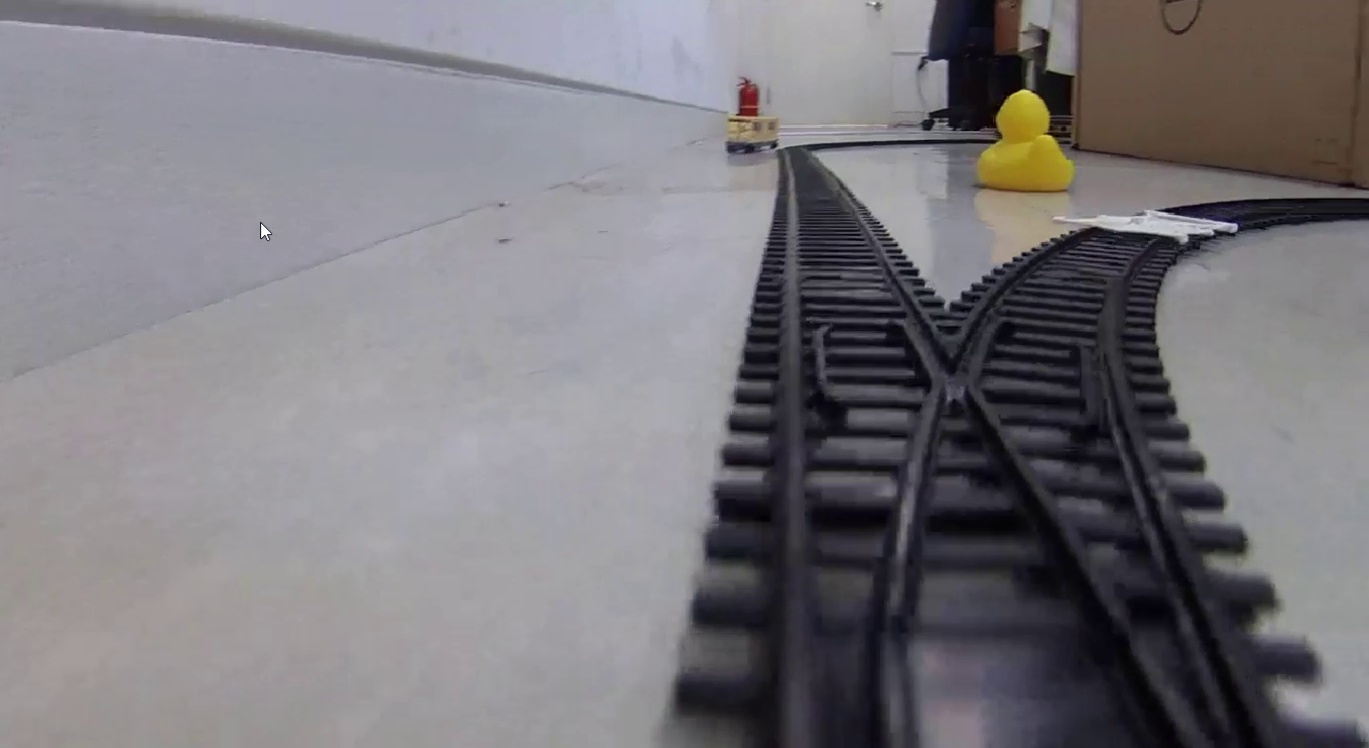web: (1055, 208, 1236, 242)
